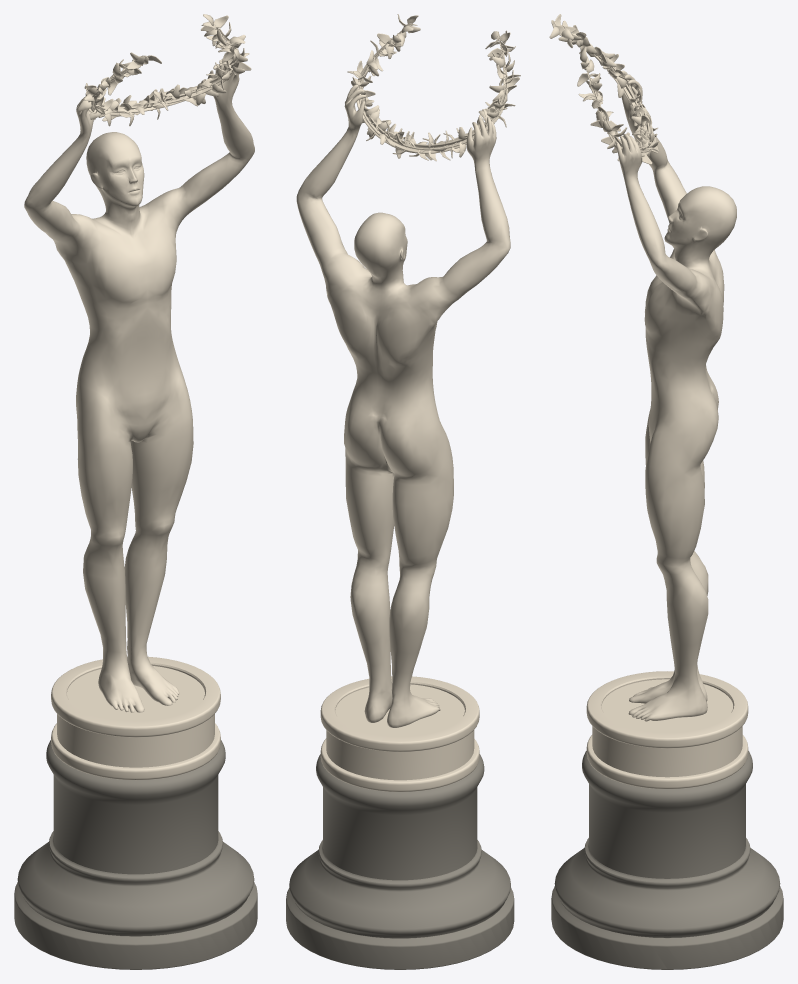
Rendered from oscar.glb.
3 renders of one model, left to right at view 1: azimuth 30°, elevation 25°; view 2: azimuth 150°, elevation 25°; view 3: azimuth 270°, elevation 25°, orthographic. The views are drawn at different scales.
Parts seen in each view (by area): view 1: Statue, Statue-Base-02, Statue-Base-01; view 2: Statue, Statue-Base-02, Statue-Base-01; view 3: Statue, Statue-Base-02, Statue-Base-01.
Boxes of the visible parts, box(x1,y1,x2,y2) form: Statue: box(24, 14, 254, 712); Statue-Base-02: box(14, 740, 257, 969); Statue-Base-01: box(51, 656, 220, 780); Statue: box(296, 14, 520, 727); Statue-Base-02: box(286, 754, 514, 969); Statue-Base-01: box(320, 676, 479, 791); Statue: box(549, 14, 736, 721); Statue-Base-02: box(551, 751, 783, 969); Statue-Base-01: box(586, 671, 748, 788).
Bounding box in the file's own units: 9.32 × 36.34 × 8.7.
